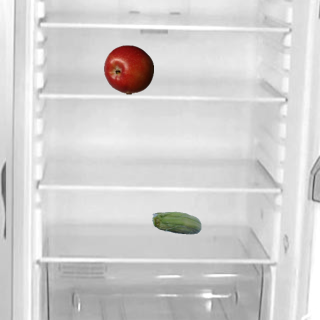Apple Braeburn: (103, 44, 153, 94)
Corn Husk: (151, 199, 201, 249)
